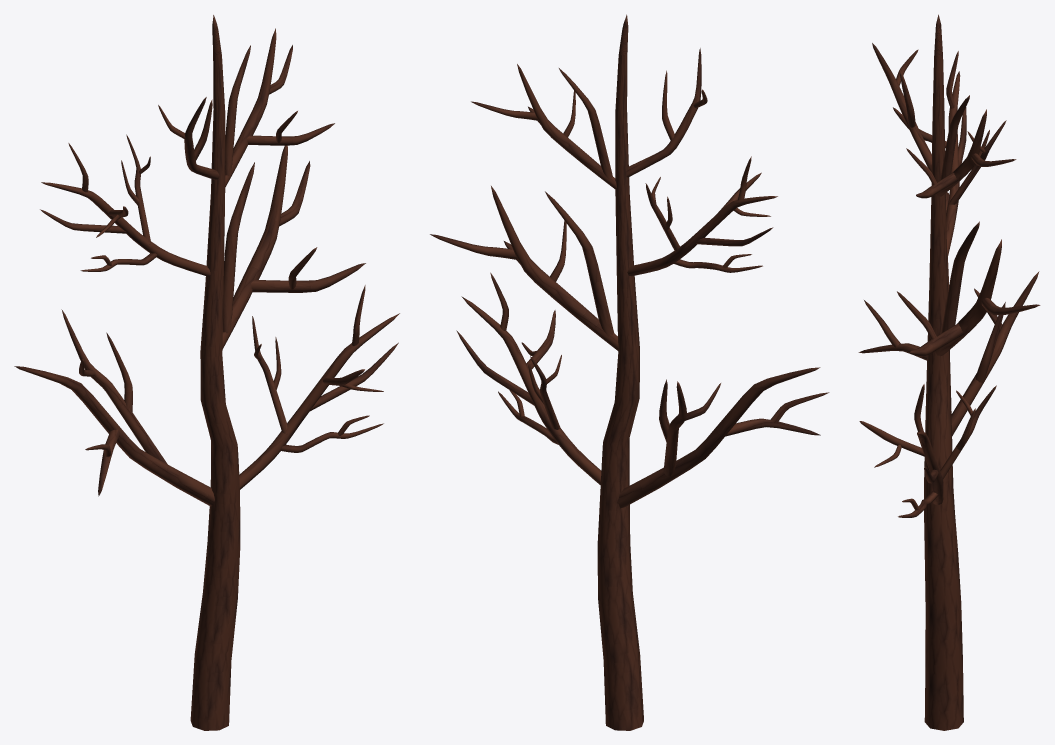
The model's file is dead_tree_2.glb.
The picture shows the model from 3 angles, left to right: view 1: azimuth 30°, elevation 25°; view 2: azimuth 150°, elevation 25°; view 3: azimuth 270°, elevation 25°; orthographic projection.
Visible parts, largest first — view 1: DeadTree_22; view 2: DeadTree_22; view 3: DeadTree_22.
Part boxes in pixels (x1,y1,x2,y2): DeadTree_22: (14, 15, 399, 730); DeadTree_22: (430, 14, 829, 730); DeadTree_22: (858, 14, 1040, 730).
Size of the model in its own units: 3.42 by 6.2 by 1.45.
1 material, 1 textured.
